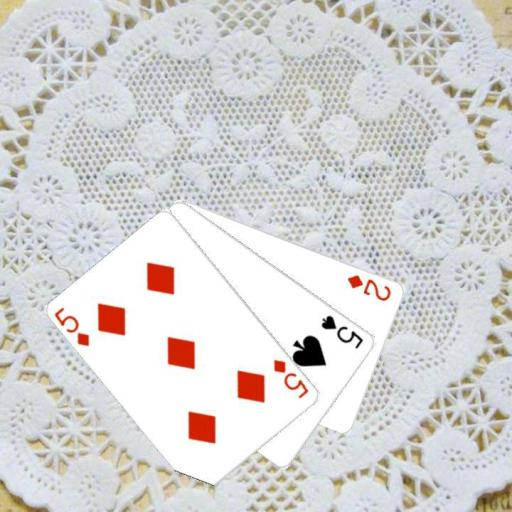2D: (344, 271, 393, 302)
5D: (270, 356, 311, 401), (51, 304, 92, 349)
5S: (318, 312, 365, 351)
